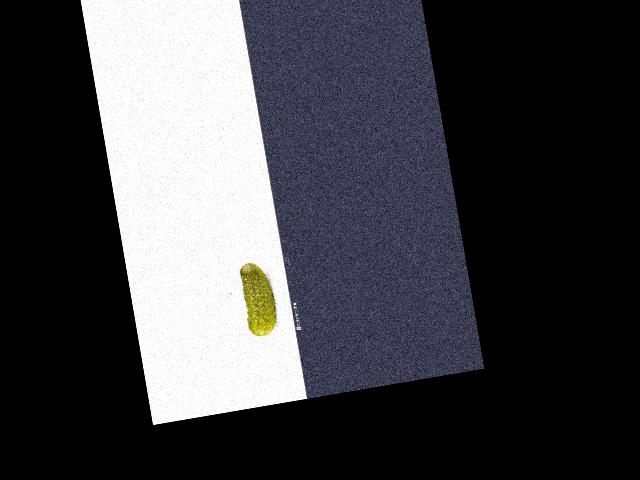cucumber: (237, 259, 280, 337)
